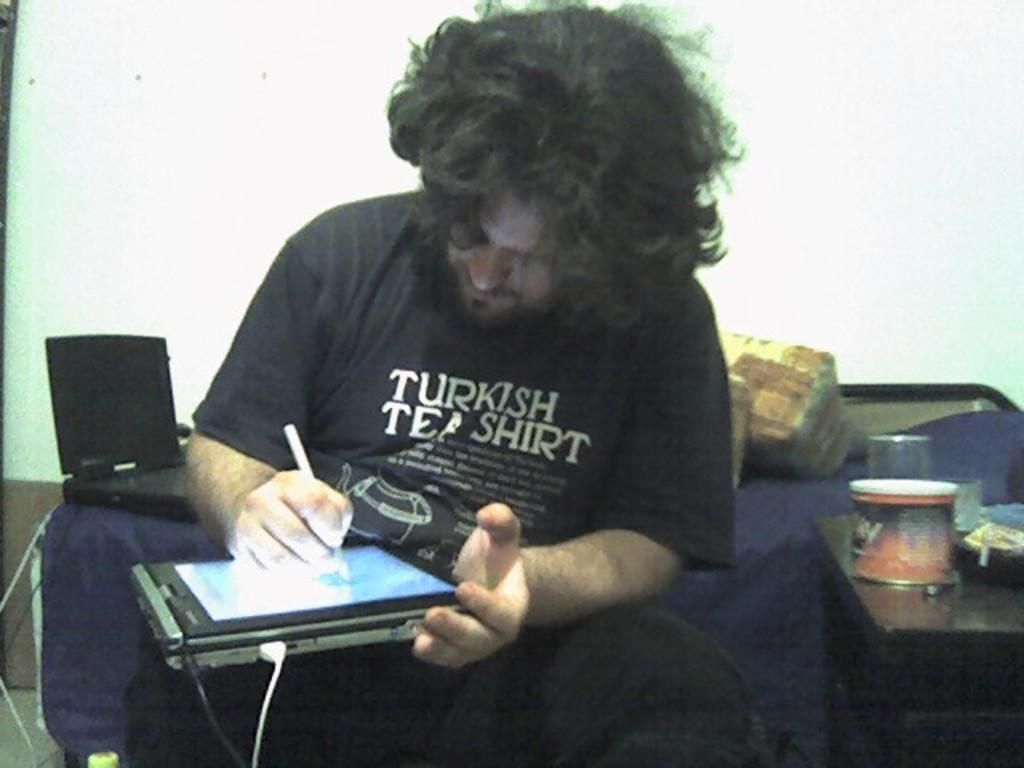Laptop: (128, 534, 472, 680), (29, 344, 208, 523)
